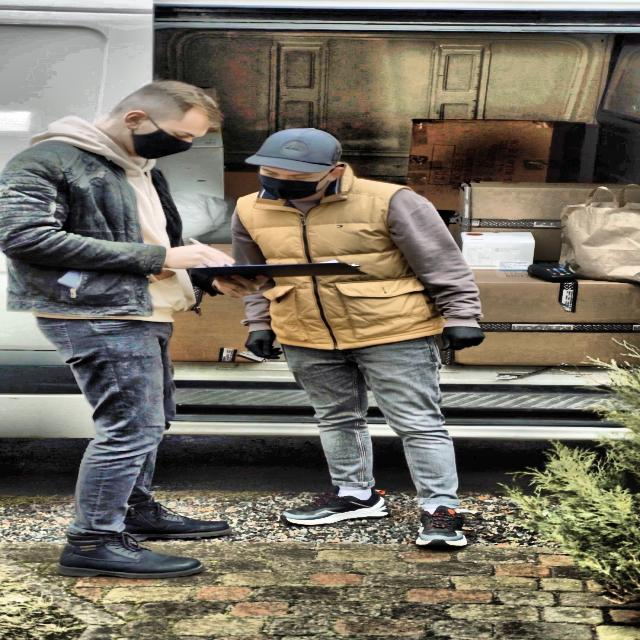gloved: (160, 238, 250, 277), (235, 328, 300, 367), (437, 320, 502, 352)
